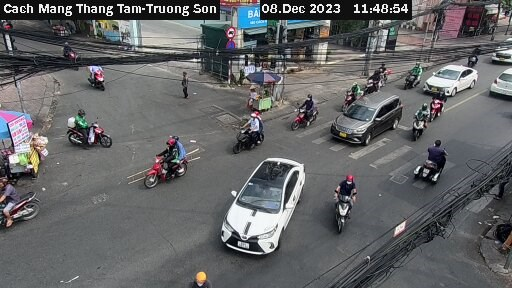car: (219, 154, 301, 258), (327, 91, 402, 146), (424, 59, 477, 97), (490, 60, 512, 102), (490, 37, 512, 62)
motorbike: (128, 138, 191, 180), (1, 174, 45, 230), (63, 106, 110, 151), (322, 180, 365, 229), (412, 134, 451, 182), (81, 61, 119, 95), (229, 120, 271, 150), (284, 100, 326, 125), (410, 99, 433, 143), (399, 58, 427, 88), (425, 91, 452, 119), (56, 44, 82, 65), (337, 82, 363, 103), (361, 73, 386, 92)
